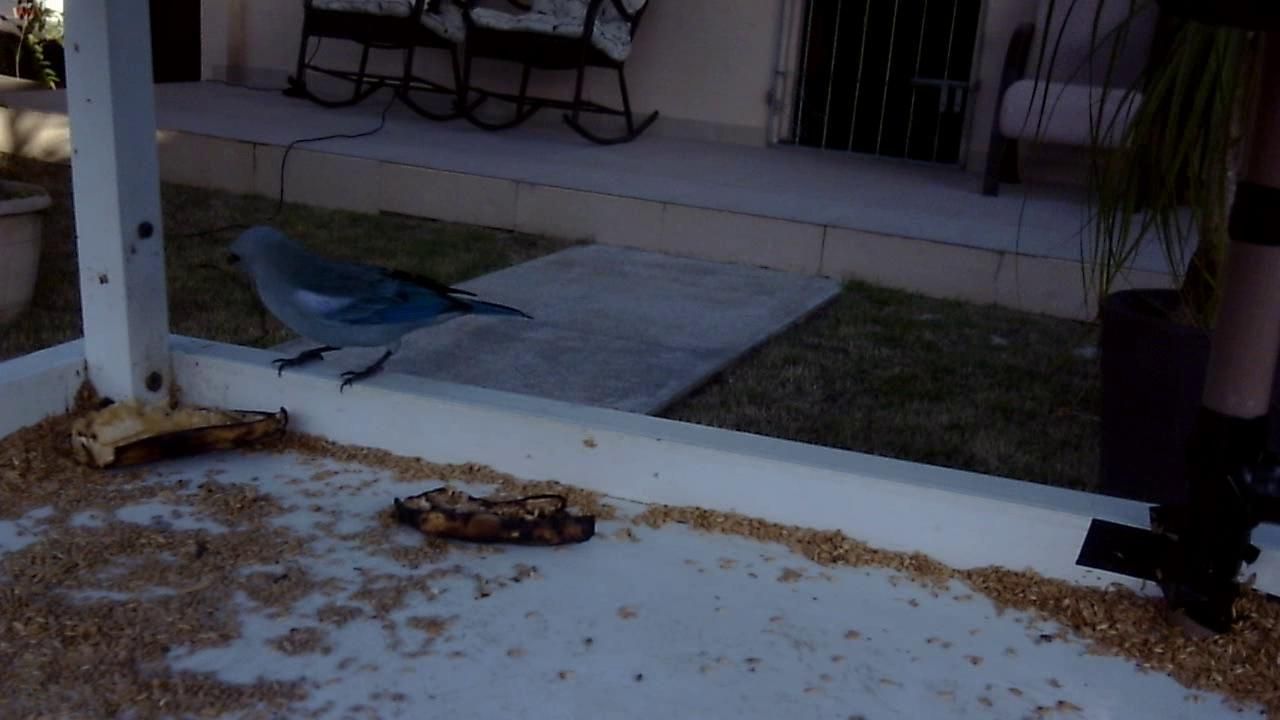sanhaco_da_amazonia: (220, 222, 532, 400)
